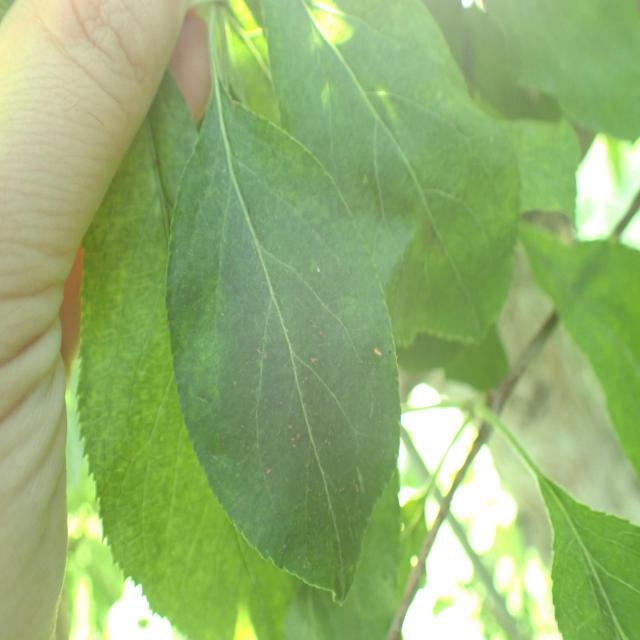scab: (218, 152, 390, 585), (368, 99, 490, 350)
